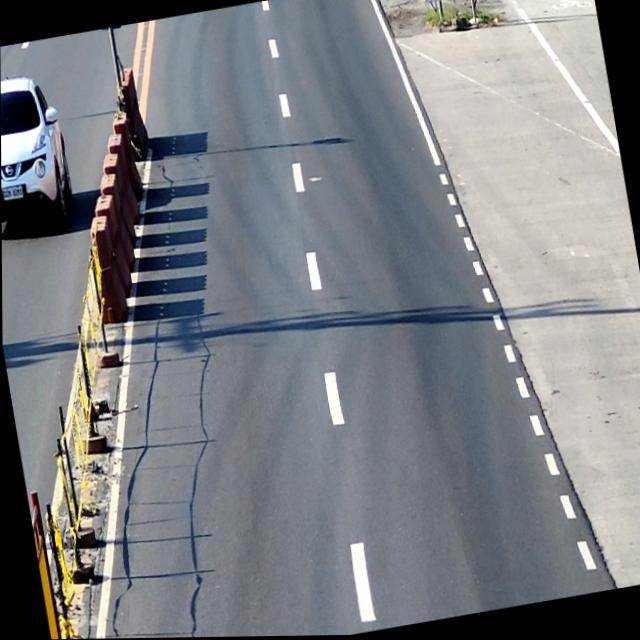Car: (0, 69, 78, 236)
License-Plate: (2, 184, 24, 201)
